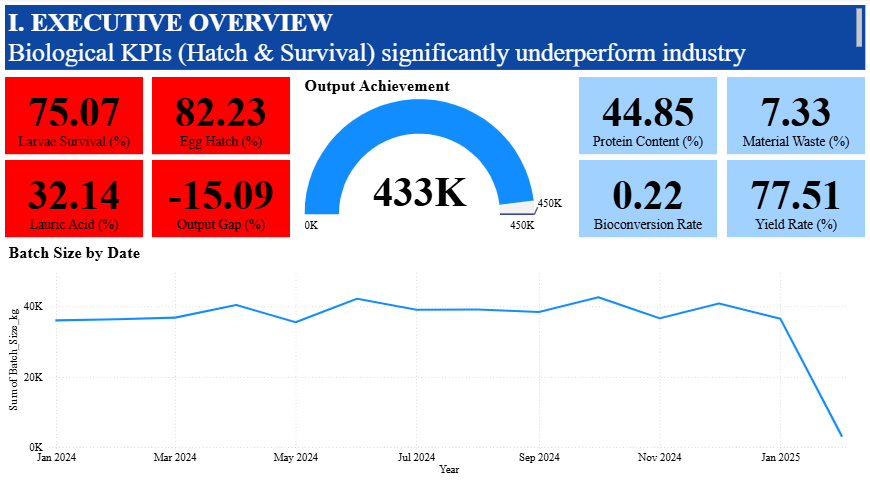

The page's visual inventory and layout, read from the dashboard file:
{"tool":"powerbi","page":{"name":"I. EXECUTIVE OVERVIEW","canvas":[1280,720],"ordinal":0},"visuals":[{"type":"textbox","box":[10.2,10.2,1258.5,95.1],"z":0},{"type":"card","fields":{"Values":["Sum(Biological_Dataset_Simulated_cleaned.Output Gap)"]},"box":[225.4,237.6,202,112.7],"z":2000},{"type":"card","fields":{"Values":["Biological_Dataset_Simulated_cleaned.%Raw Material Waste"]},"box":[1066.8,116.2,202,112.7],"z":3000},{"type":"card","fields":{"Values":["Avg(Biological_Dataset_Simulated_cleaned.Protein_Content_%)"]},"box":[850.2,116.2,202,112.7],"z":4000},{"type":"card","fields":{"Values":["Avg(Biological_Dataset_Simulated_cleaned.Lauric_Acid_%)"]},"box":[10.2,237.6,202,112.7],"z":5000},{"type":"card","fields":{"Values":["Avg(Biological_Dataset_Simulated_cleaned.Egg_Hatch_Rate_%)"]},"box":[225.4,116.2,202,112.7],"z":6000},{"type":"card","fields":{"Values":["Avg(Biological_Dataset_Simulated_cleaned.Larvae_Survival_Rate_%)"]},"box":[10.2,116.2,202,112.7],"z":7000},{"type":"card","fields":{"Values":["Avg(Biological_Dataset_Simulated_cleaned.Bioconversion_Rate)"]},"box":[850.2,237.6,202,112.7],"z":8000},{"type":"card","fields":{"Values":["Avg(Biological_Dataset_Simulated_cleaned.Yield_Rate_%)"]},"box":[1066.8,237.6,202,112.7],"z":9000},{"type":"lineChart","title":"Batch Size by Date","fields":{"Y":["Sum(Biological_Dataset_Simulated_cleaned.Batch_Size_kg)"],"Category":["Biological_Dataset_Simulated_cleaned.Date.Variation.Date Hierarchy.Year","Biological_Dataset_Simulated_cleaned.Date.Variation.Date Hierarchy.Quarter","Biological_Dataset_Simulated_cleaned.Date.Variation.Date Hierarchy.Month"]},"box":[10.2,360,1258.5,342.4],"z":10000},{"type":"gauge","title":"Output Achievement","fields":{"Y":["Sum(Biological_Dataset_Simulated_cleaned.Actual_Output_kg)"],"TargetValue":["Sum(Biological_Dataset_Simulated_cleaned.Planned_Output_kg)"],"MaxValue":["Sum(Biological_Dataset_Simulated_cleaned.Planned_Output_kg)"]},"box":[443.4,116.2,392.2,234.1],"z":11000}]}

Visuals, with their boxes in screenshot pixels (x1, y1, x2, y2), scaled from the page's 1280x720 canvas onto the 870x488 screenshot:
textbox: 7 7 862 71
card - Sum(Biological_Dataset_Simulated_cleaned.Output Gap): 153 161 290 237
card - Biological_Dataset_Simulated_cleaned.%Raw Material Waste: 725 79 862 155
card - Avg(Biological_Dataset_Simulated_cleaned.Protein_Content_%): 578 79 715 155
card - Avg(Biological_Dataset_Simulated_cleaned.Lauric_Acid_%): 7 161 144 237
card - Avg(Biological_Dataset_Simulated_cleaned.Egg_Hatch_Rate_%): 153 79 290 155
card - Avg(Biological_Dataset_Simulated_cleaned.Larvae_Survival_Rate_%): 7 79 144 155
card - Avg(Biological_Dataset_Simulated_cleaned.Bioconversion_Rate): 578 161 715 237
card - Avg(Biological_Dataset_Simulated_cleaned.Yield_Rate_%): 725 161 862 237
"Batch Size by Date" lineChart: 7 244 862 476
"Output Achievement" gauge: 301 79 568 237
